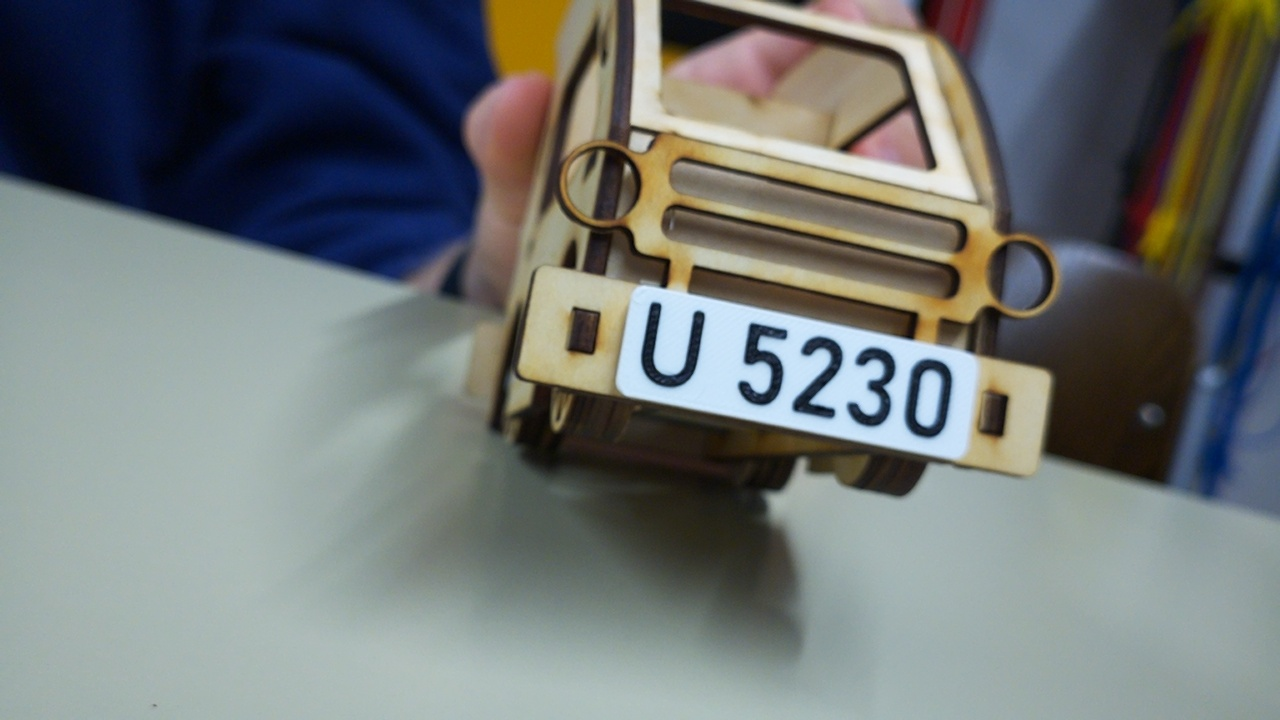license_plate: (612, 280, 983, 462)
